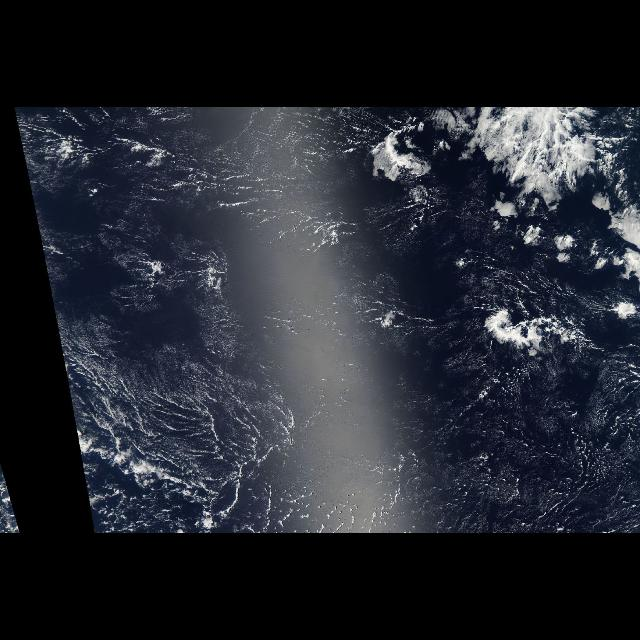Gravel: (412, 405, 626, 525)
Sugar: (45, 205, 640, 531)
